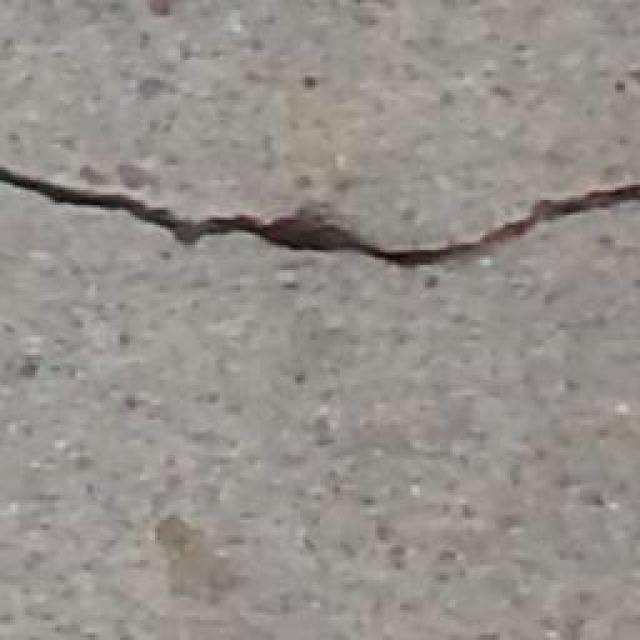concrete-crack: (0, 164, 640, 277)
